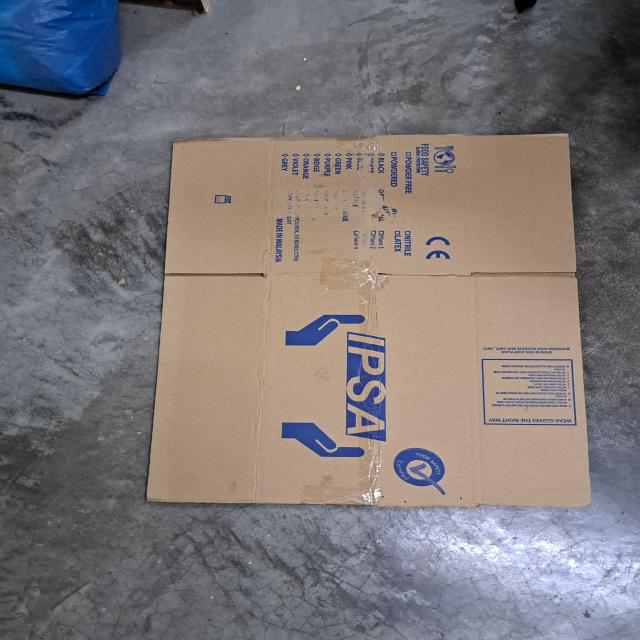cardboard: (148, 128, 606, 523)
plastic bag: (0, 0, 130, 103)
